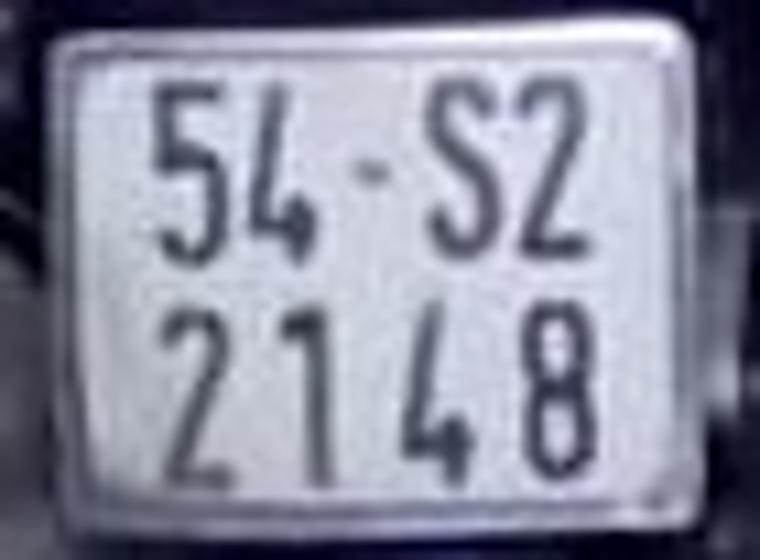-: (345, 155, 395, 187)
1: (278, 302, 338, 490)
2: (156, 304, 239, 496), (515, 77, 593, 261)
4: (387, 295, 480, 497), (247, 87, 321, 269)
5: (149, 79, 225, 266)
8: (516, 299, 602, 491)
S: (412, 74, 499, 256)
